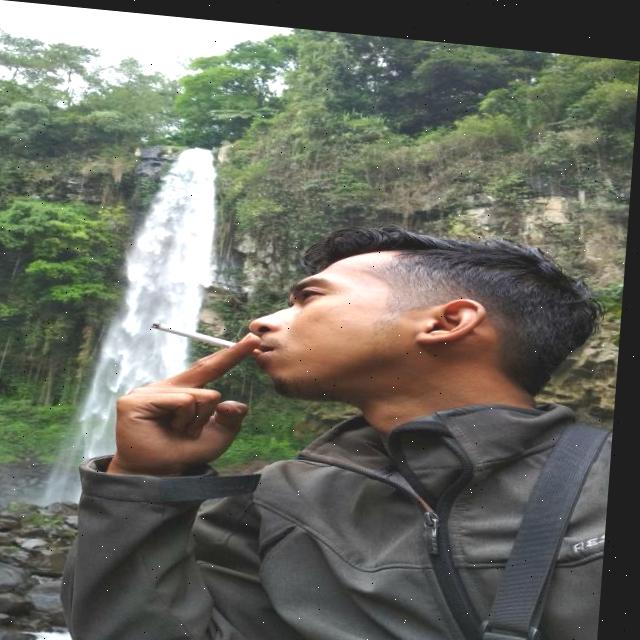cigarette: (156, 319, 267, 348)
